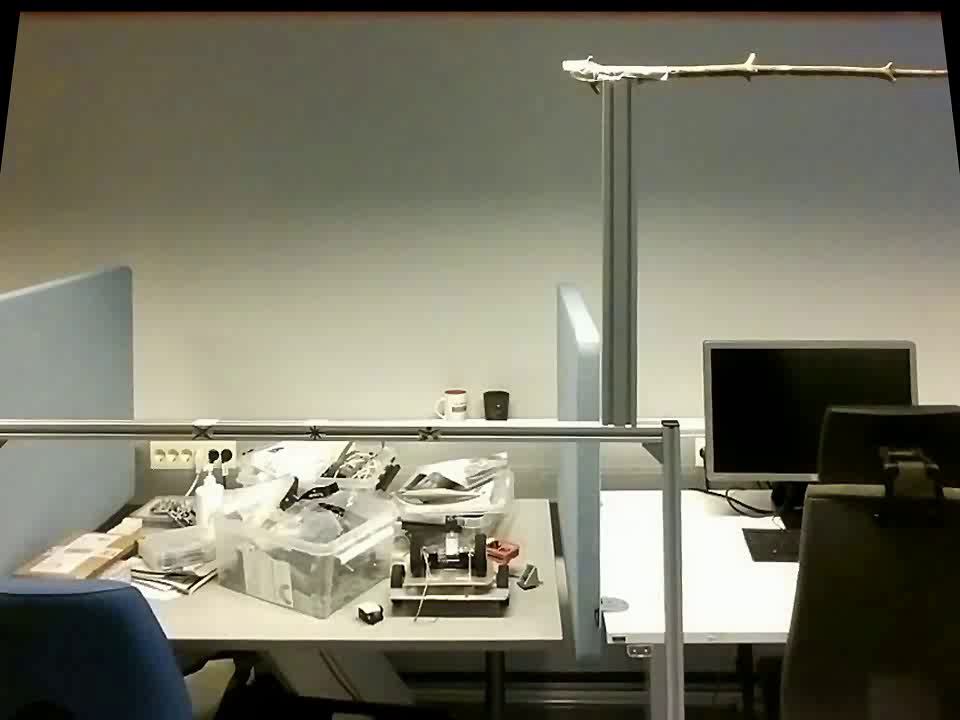aluminum_frame: (2, 414, 662, 445), (601, 81, 638, 431), (657, 420, 694, 716)
branch: (679, 48, 946, 90)
